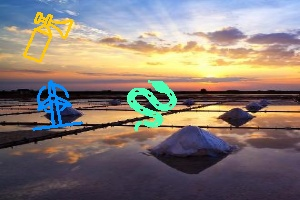喷壶: (25, 12, 69, 65)
小风车: (33, 81, 83, 129)
蛇: (126, 78, 176, 128)
